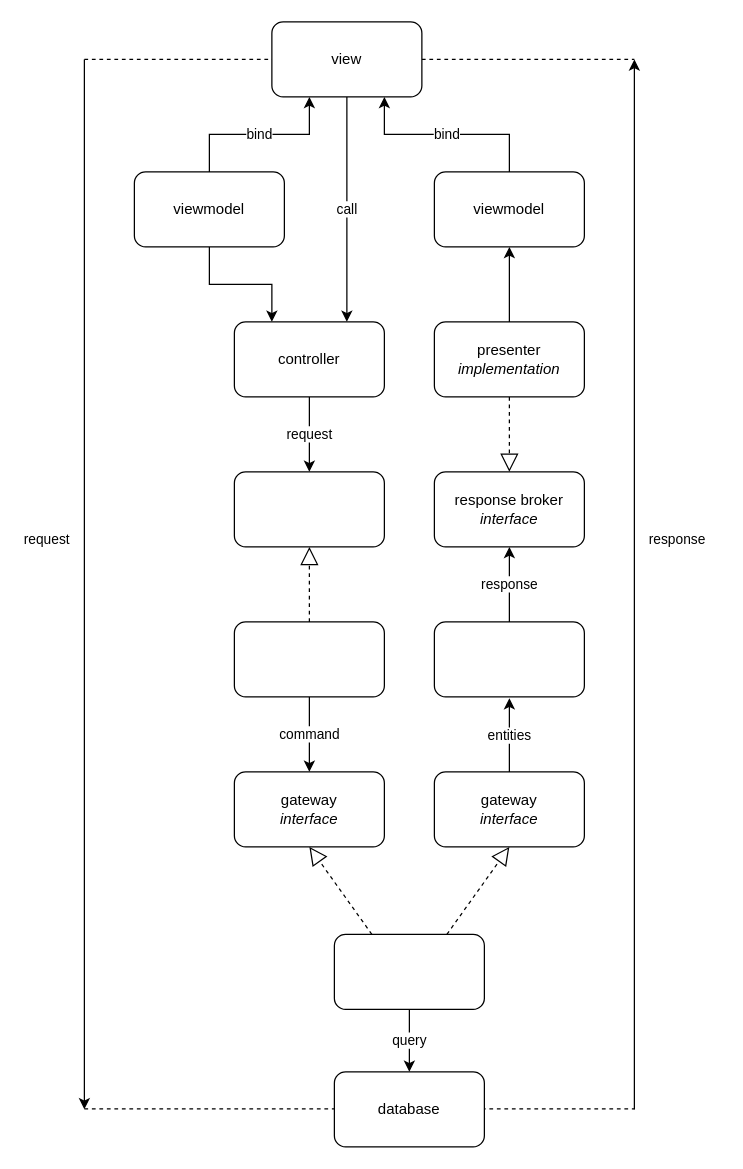
This 743x1169 diagram has some shape labels left out. The shapes that lost their labels are listed below. From the top down, each one's centre as x and y in pixels, then its label:
At (x=308, y=509): "request broker interface".
At (x=308, y=659): "interactor implementation".
At (x=508, y=659): "interactor".
At (x=408, y=971): "repository implementation".
